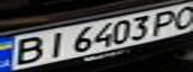0: (112, 17, 133, 45)
3: (127, 12, 157, 41)
4: (93, 19, 118, 49)
6: (69, 24, 97, 53)
B: (3, 34, 51, 66)
I: (39, 29, 72, 60)
O: (166, 3, 193, 30)
P: (145, 8, 187, 35)
